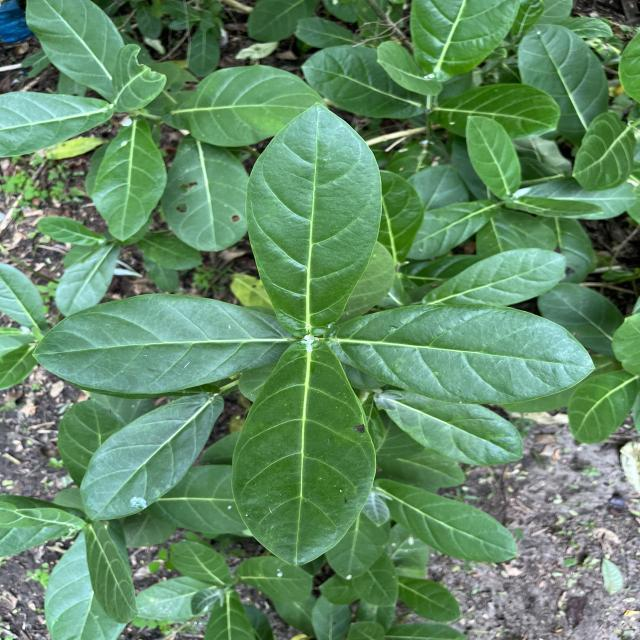Calotropis gigantea: (229, 333, 380, 570), (244, 100, 386, 336), (325, 302, 599, 406), (31, 292, 292, 397), (78, 392, 224, 524), (375, 477, 520, 565), (379, 388, 525, 468), (160, 134, 256, 253), (21, 0, 128, 97), (90, 117, 170, 242), (418, 246, 568, 306), (465, 113, 523, 200)
